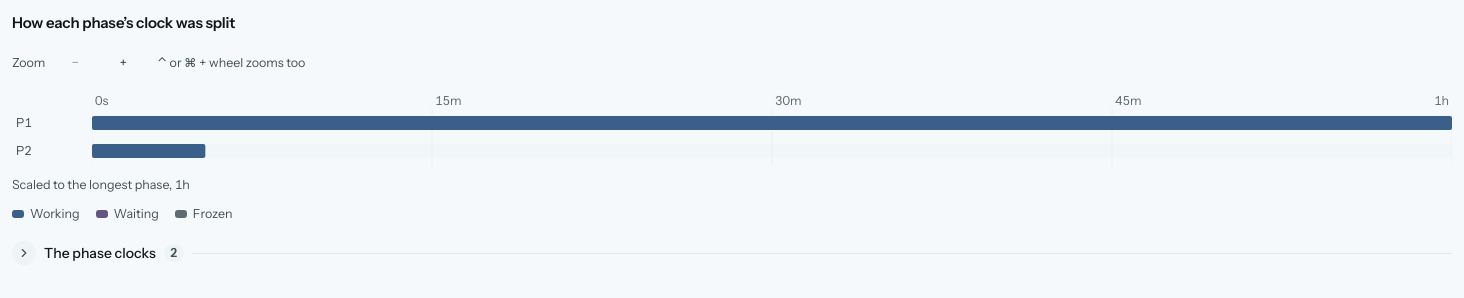
it: T-5 the split’s zoom is on the figure (#376) › draws − / + beside the split, and + zooms it
Click the button named "Zoom in". click: (123, 63)
box: [101,41,145,85]
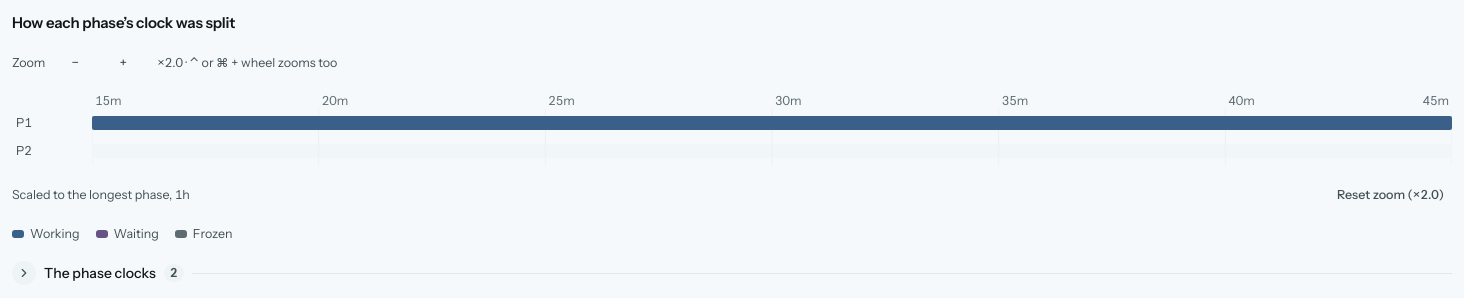
Result: the button "Reset zoom (×2.0)" is shown at [1329,173,1452,217]
